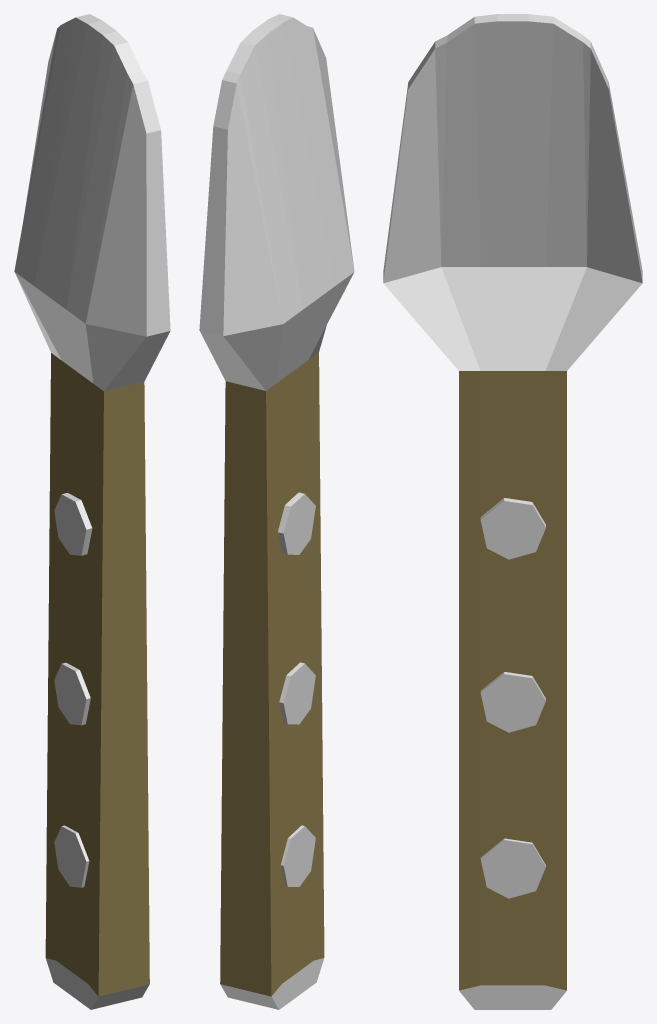
The model's file is cuillere.glb.
The picture shows the model from 3 angles, left to right: view 1: azimuth 30°, elevation 25°; view 2: azimuth 150°, elevation 25°; view 3: azimuth 270°, elevation 25°; orthographic projection. The views are drawn at different scales.
Parts seen in each view (by area): view 1: Cube; view 2: Cube; view 3: Cube.
Boxes of the visible parts, x1,y1,x2,y2 form: Cube: (14,14,170,1009); Cube: (199,14,354,1009); Cube: (383,14,642,1009).
Size of the model in its own units: 0.6794 by 8.36 by 2.
